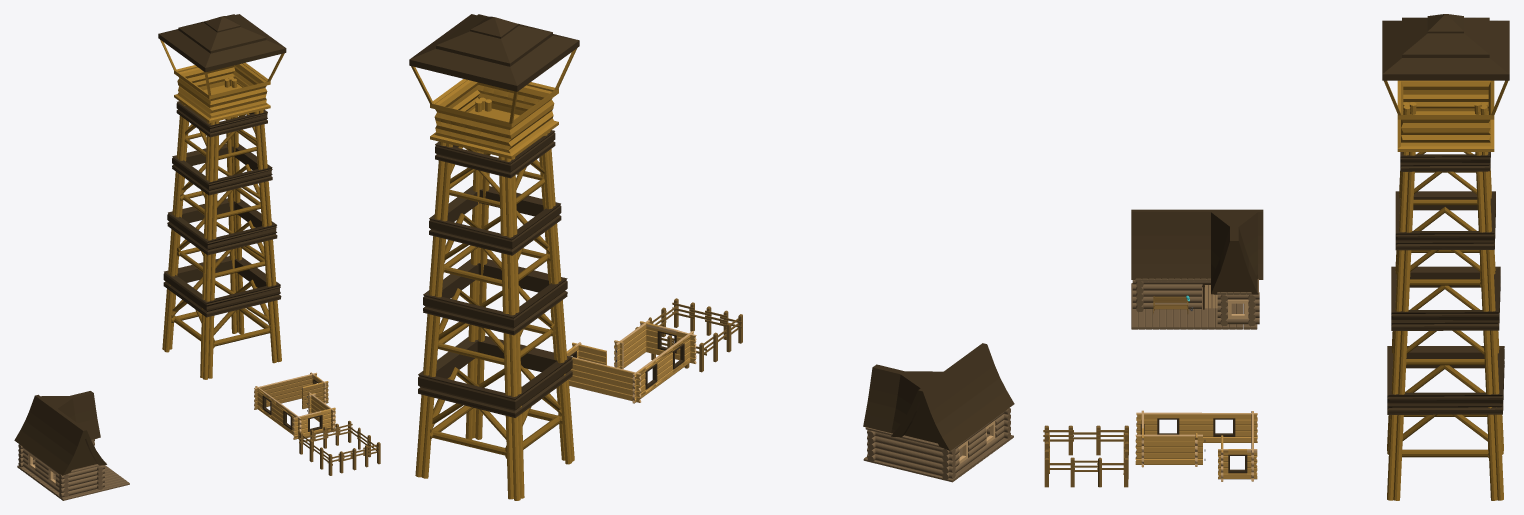
File: CABAÑA_01.fbx
The picture shows the model from 3 angles, left to right: view 1: azimuth 30°, elevation 25°; view 2: azimuth 150°, elevation 25°; view 3: azimuth 270°, elevation 25°; orthographic projection. The views are drawn at different scales.
Parts seen in each view (by area): view 1: control_tower:polySurface59.002, control_tower:polySurface80.002, Cube.001, control_tower:pCylinder38.001, control_tower:polySurface62.001, control_tower:polySurface61.001, paredes, Cylinder.006, polySurface309.001, suelo; view 2: control_tower:polySurface59.002, control_tower:polySurface80.002, Cube.001, control_tower:pCylinder38.001, control_tower:polySurface62.001, control_tower:polySurface61.001, paredes, Cylinder.006, polySurface309.001, suelo; view 3: control_tower:polySurface59.002, Cube.001, control_tower:polySurface80.002, control_tower:polySurface62.001, control_tower:polySurface61.001, control_tower:pCylinder38.001, paredes, Cylinder.006, suelo, polySurface309.001, bordes_venata.
Boxes of the visible parts, x1,y1,x2,y2 form: control_tower:polySurface59.002: (163,101,281,317); control_tower:polySurface80.002: (162,77,281,379); Cube.001: (14,391,106,475); control_tower:pCylinder38.001: (171,113,275,348); control_tower:polySurface62.001: (158,14,286,72); control_tower:polySurface61.001: (174,62,270,122); paredes: (254,372,335,439); Cylinder.006: (18,439,104,497); polySurface309.001: (299,420,380,475); suelo: (17,464,129,500); control_tower:polySurface59.002: (418,130,572,417); control_tower:polySurface80.002: (415,97,574,500); Cube.001: (863,343,1014,450); control_tower:pCylinder38.001: (425,146,562,458); control_tower:polySurface62.001: (409,14,579,91); control_tower:polySurface61.001: (430,79,558,159); paredes: (566,320,696,403); Cylinder.006: (867,408,1010,479); polySurface309.001: (635,298,742,372); suelo: (863,434,1013,482); control_tower:polySurface59.002: (1387,152,1504,414); Cube.001: (1131,209,1263,294); control_tower:polySurface80.002: (1387,102,1503,500); control_tower:polySurface62.001: (1382,14,1509,80); control_tower:polySurface61.001: (1397,80,1494,151); control_tower:pCylinder38.001: (1402,152,1488,457); paredes: (1135,410,1257,481); Cylinder.006: (1132,280,1259,325); suelo: (1131,283,1257,329); polySurface309.001: (1043,425,1128,487); bordes_venata: (1140,418,1247,473).
Size of the model in its own units: 510 by 528 by 479.
